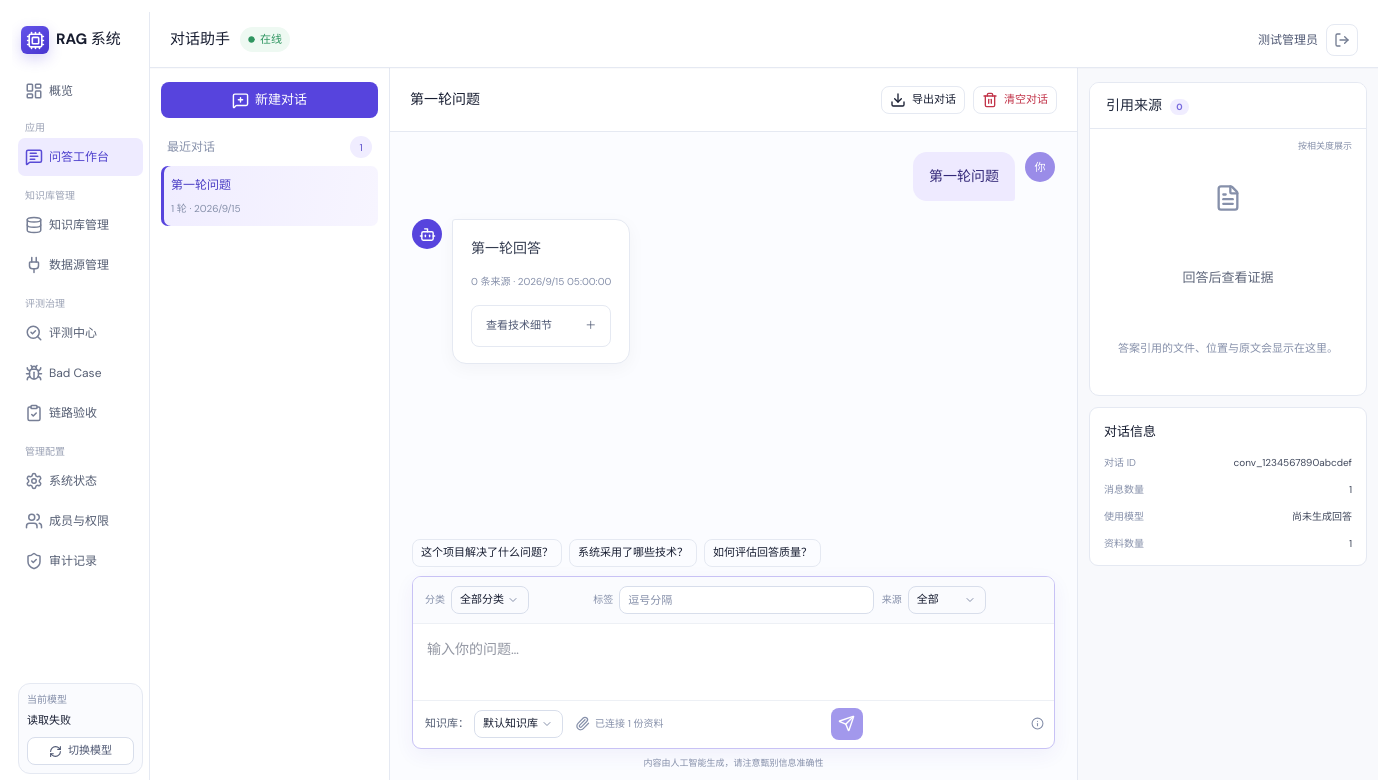
Test: 同一会话连续提问后保留全部问答轮次
Expected: the text "第一轮回答" is shown, [471,239,541,257]
In the text box named "向知识库提问": (734, 658) [413,624,1054,694], type "第二轮问题"
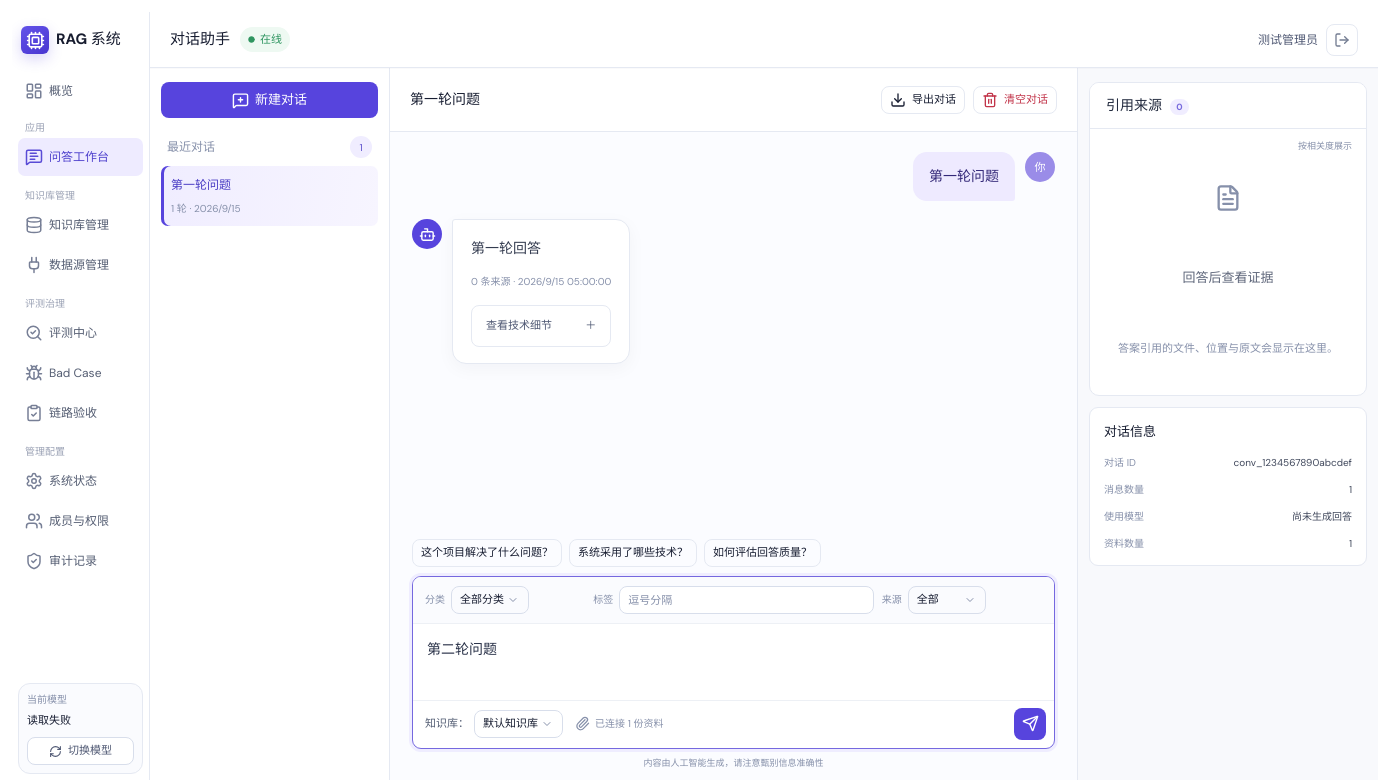
Click the button named "提问并发送": (1030, 724) [1014,708,1046,740]
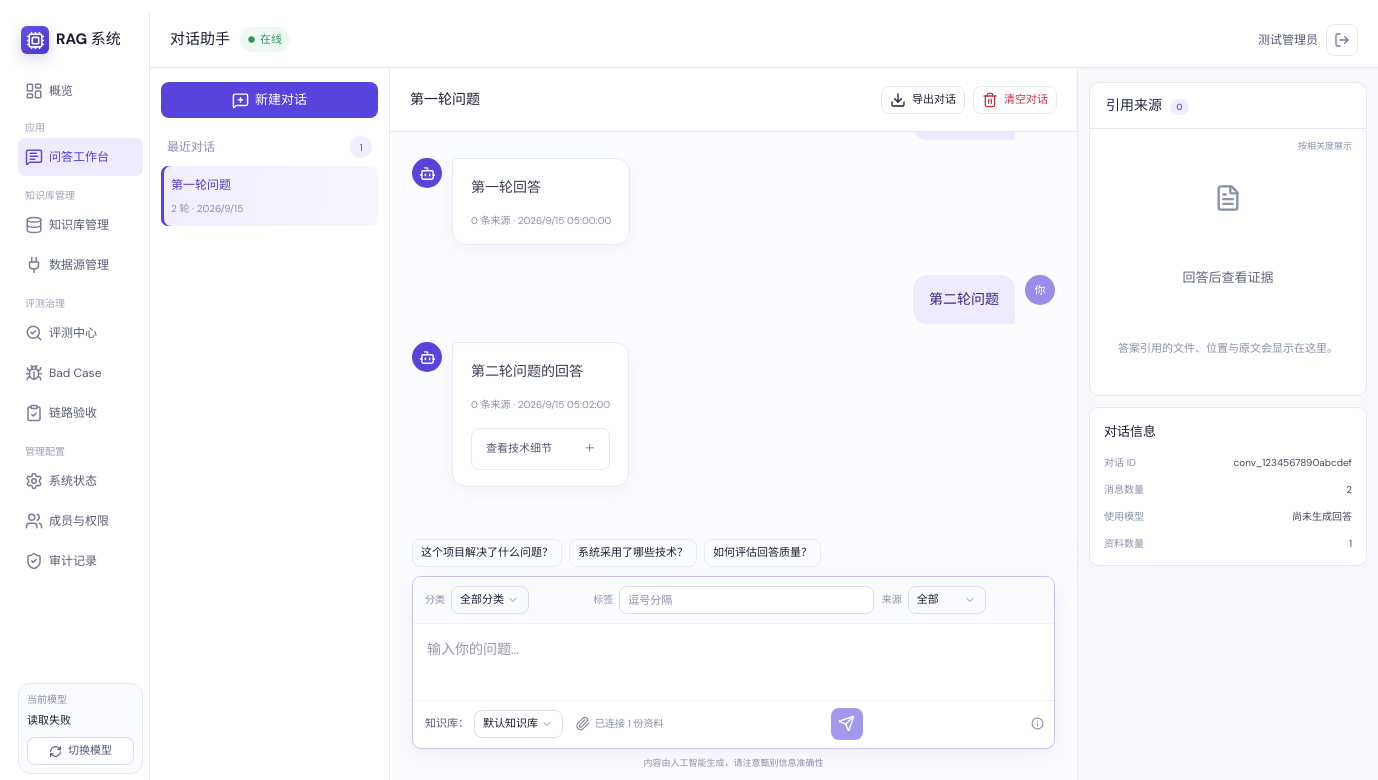
Expected: the text "第二轮问题的回答" is shown, [471,362,583,380]
In the text box named "向知识库提问": (734, 658) [413,624,1054,694], type "第三轮问题"
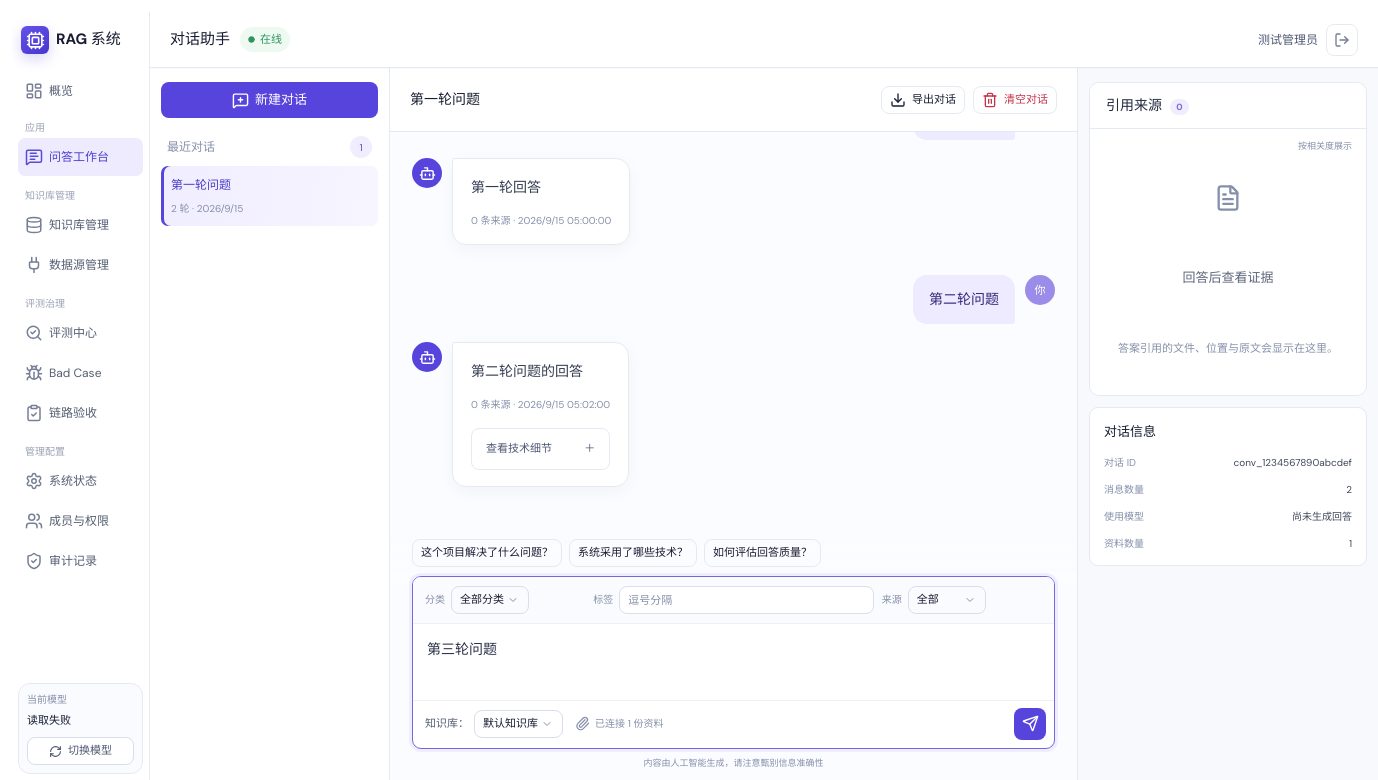
Click the button named "提问并发送": (1030, 724) [1014,708,1046,740]
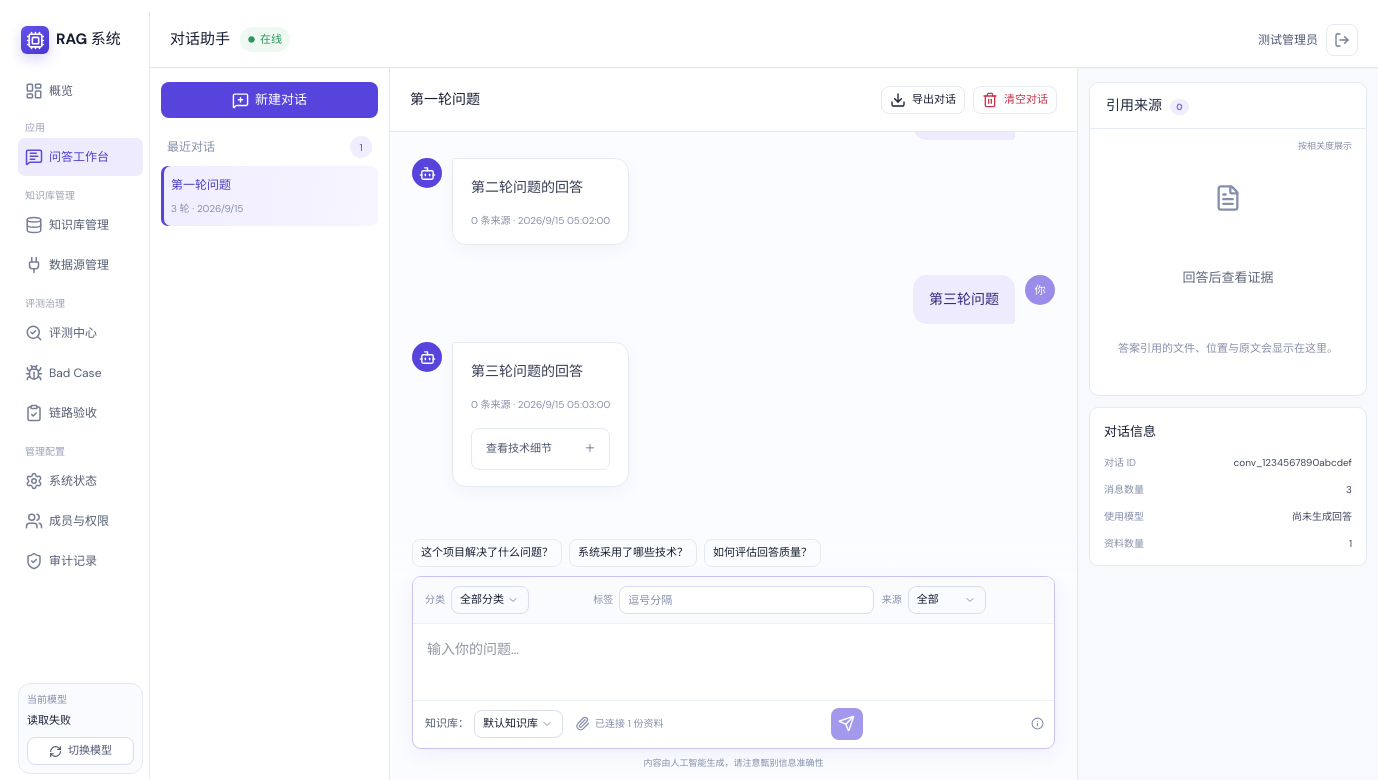
Expected: the text "第二轮问题的回答" is shown once, [471,178,583,196]
Expected: the text "第三轮问题的回答" is shown, [471,362,583,380]
Expected: the text "3 轮 · 2026/9/15" is shown, [171,202,243,215]
